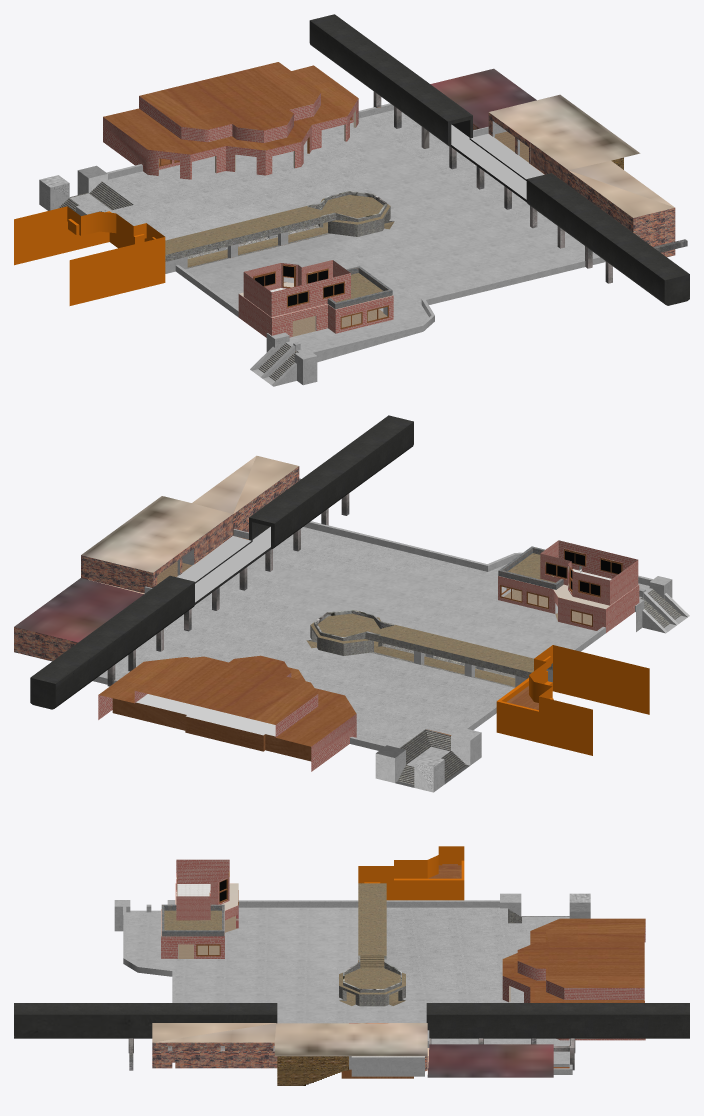
The model's file is Map.fbx.
3 renders of one model, top to bottom at view 1: azimuth 30°, elevation 25°; view 2: azimuth 150°, elevation 25°; view 3: azimuth 270°, elevation 25°, orthographic. The views are drawn at different scales.
Parts seen in each view (by area): view 1: Plane002; view 2: Plane002; view 3: Plane002.
Boxes of the visible parts, box(x1,y1,x2,y2) form: Plane002: box(14, 14, 689, 386); Plane002: box(14, 415, 689, 792); Plane002: box(14, 846, 689, 1085).
Size of the model in its own units: 27999 by 3503 by 32685.
